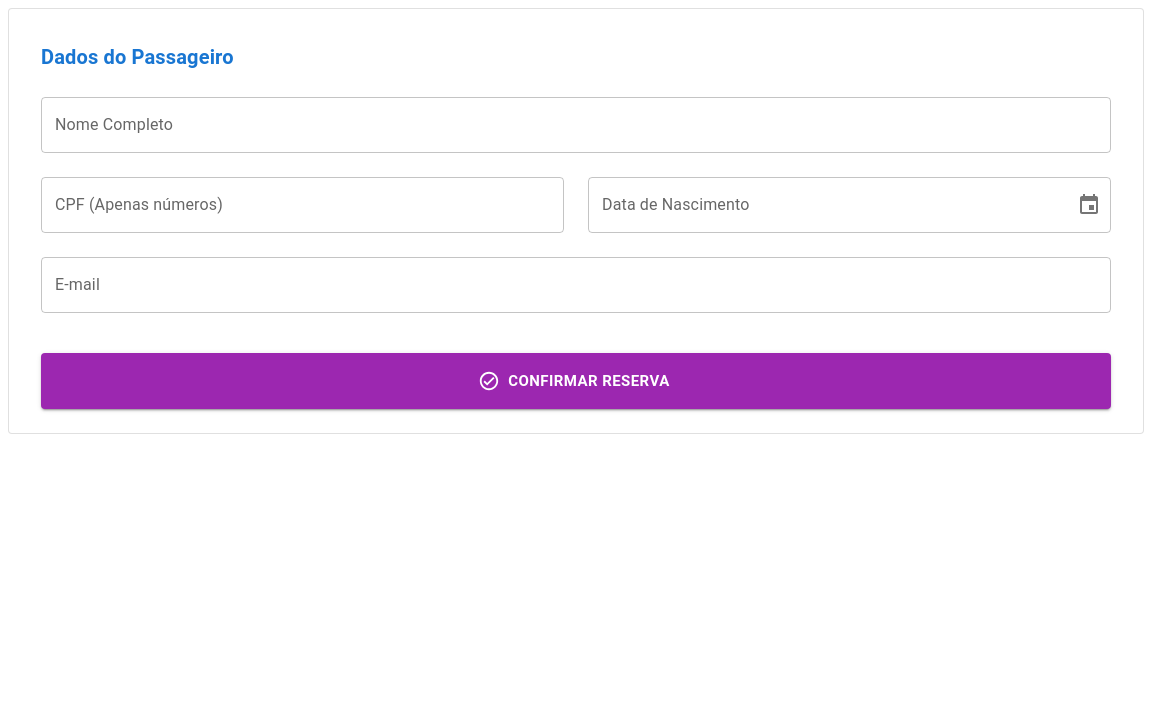
Test: Componente de Integração: PassengerForm › Caminho Triste: deve exibir mensagens de erro e bloquear o submit se os dados forem inválidos
Click the button "Confirmar Reserva" at (576, 381), box [41,353,1111,409]
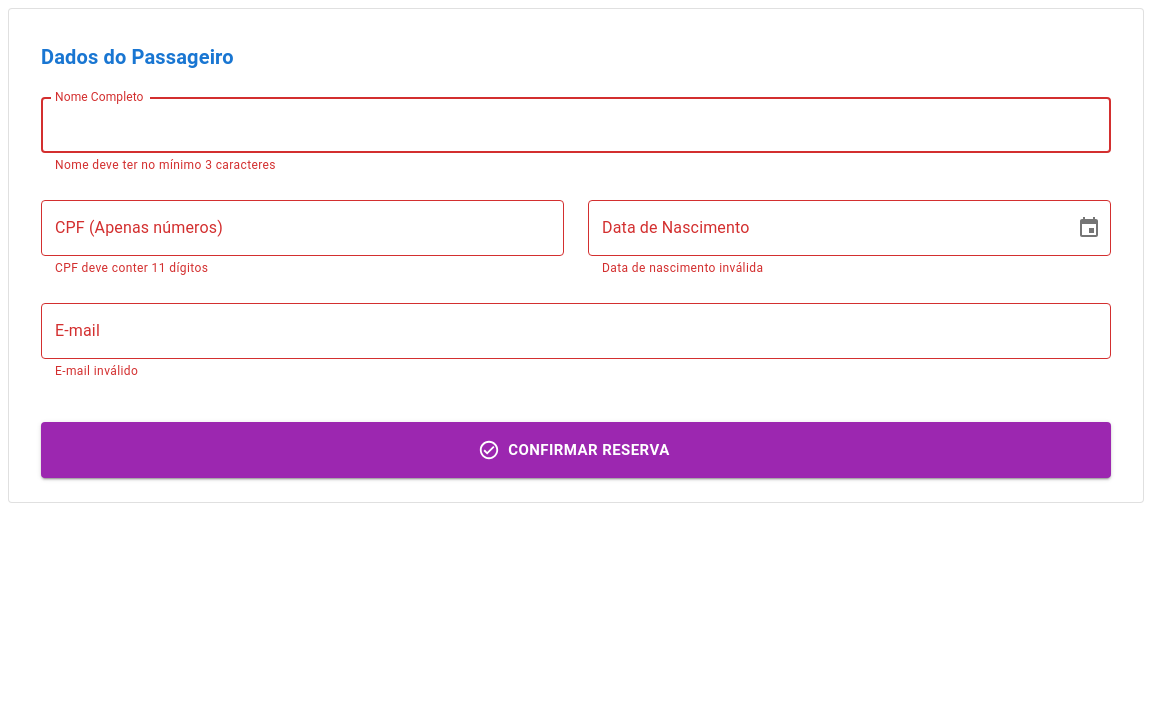
Result: the text "Nome deve ter no mínimo 3 caracteres" is shown at [55,158,276,172]
Result: the text "E-mail inválido" is shown at [55,364,138,378]
Result: the text "CPF deve conter 11 dígitos" is shown at [55,261,208,275]
